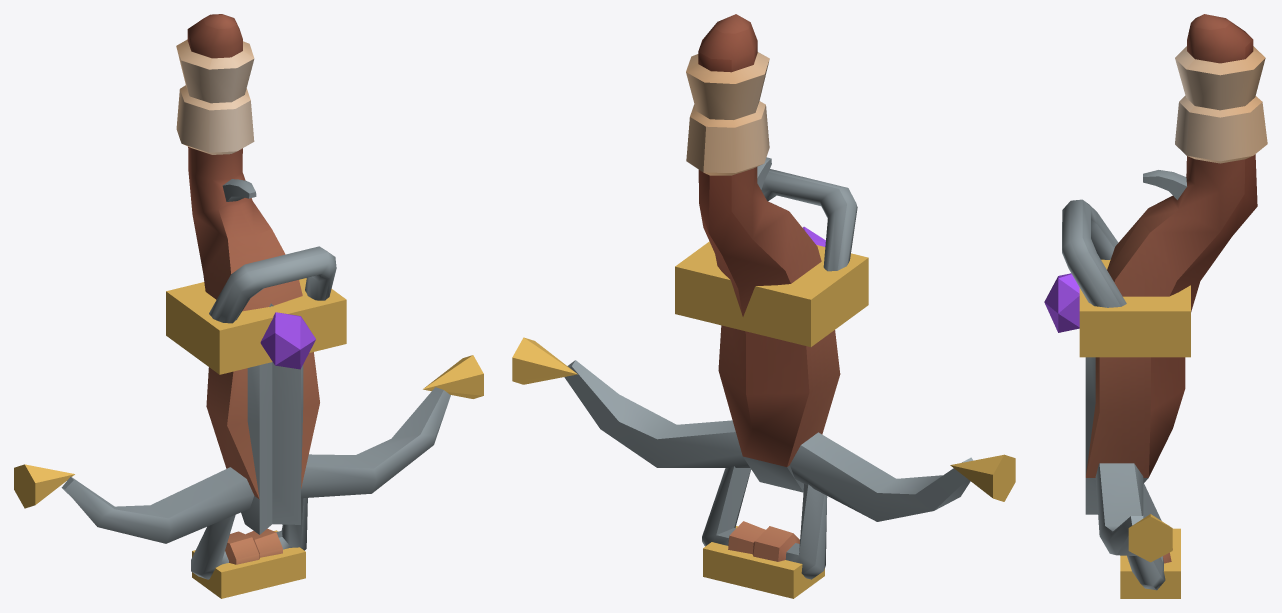
The model's file is rogue_sword_t3_epic.glb.
3 views of the same model, side by side, from view 1: azimuth 30°, elevation 25°; view 2: azimuth 150°, elevation 25°; view 3: azimuth 270°, elevation 25° (orthographic). The views are drawn at different scales.
Parts seen in each view (by area): view 1: rogue_sword_t3_epic__handslot_r; view 2: rogue_sword_t3_epic__handslot_r; view 3: rogue_sword_t3_epic__handslot_r.
Part boxes in pixels (x1,y1,x2,y2): rogue_sword_t3_epic__handslot_r: [14, 14, 483, 598]; rogue_sword_t3_epic__handslot_r: [512, 14, 1015, 598]; rogue_sword_t3_epic__handslot_r: [1044, 14, 1267, 598].
Size of the model in its own units: 1.06 by 1.23 by 0.4412.
3 materials, 2 textured.
